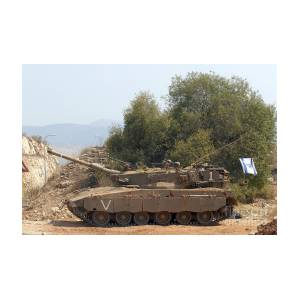Battle Tank: (68, 163, 236, 228)
